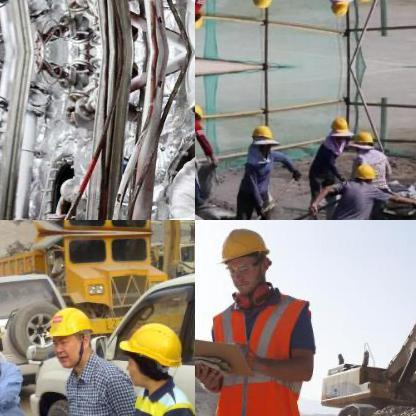Helmet: (210, 220, 275, 298), (118, 319, 184, 385), (43, 302, 95, 368), (327, 113, 351, 147), (248, 122, 276, 150), (350, 128, 374, 152), (326, 0, 353, 19), (352, 161, 376, 182), (248, 0, 277, 10), (195, 99, 206, 125), (195, 5, 206, 31), (349, 0, 375, 4)
